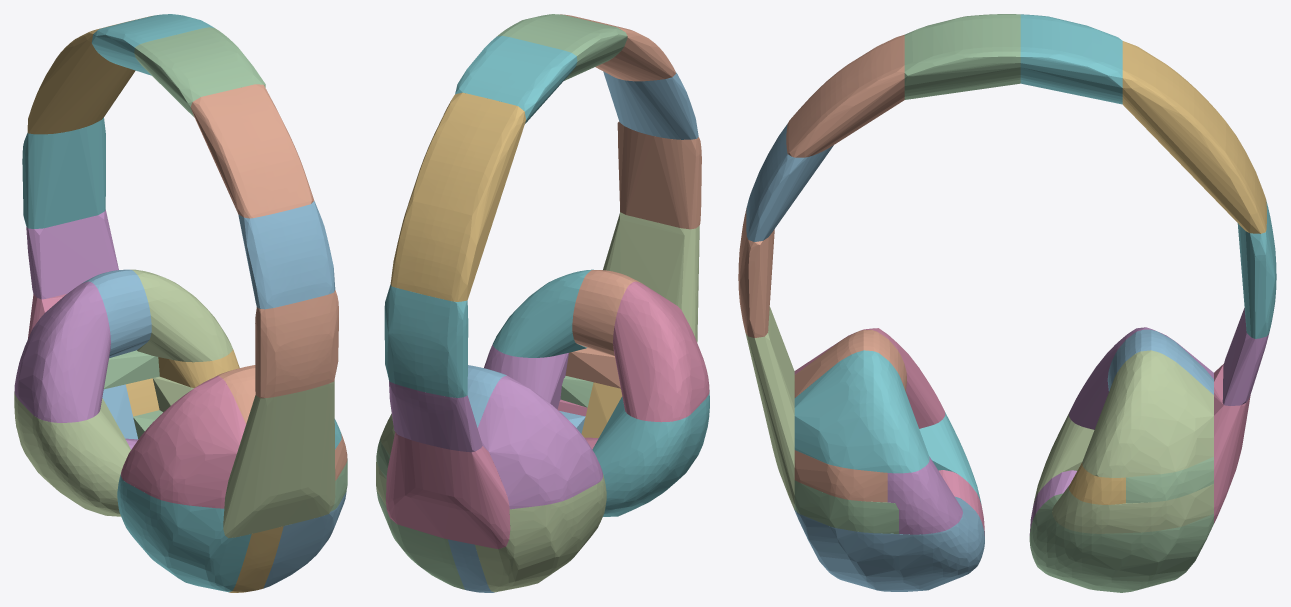
The model's file is ear_hear_collision.glb.
3 renders of one model, left to right at view 1: azimuth 30°, elevation 25°; view 2: azimuth 150°, elevation 25°; view 3: azimuth 270°, elevation 25°, orthographic. The views are drawn at different scales.
Visible parts, largest first — view 1: world; view 2: world; view 3: world.
Part boxes in pixels (x1,y1,x2,y2): world: [14, 14, 347, 592]; world: [376, 14, 709, 592]; world: [738, 14, 1276, 592].
Bounding box in the file's own units: 0.0633 × 0.1508 × 0.1337.
